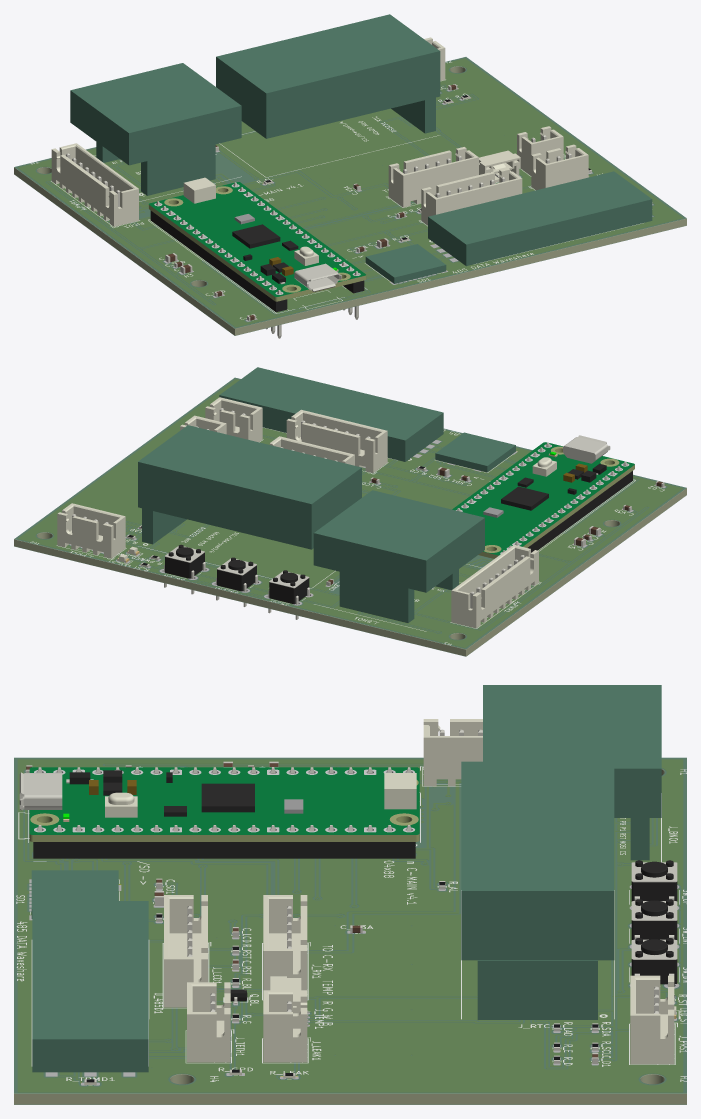
File: child_main.glb
The picture shows the model from 3 angles, top to bottom: view 1: azimuth 30°, elevation 25°; view 2: azimuth 150°, elevation 25°; view 3: azimuth 270°, elevation 25°; orthographic projection. The views are drawn at different scales.
Parts seen in each view (by area): view 1: =>[0:1:1:2] (×6), =>[0:1:1:25], =>[0:1:1:21], RaspberryPi_Pico_H_Module_KiCad, =>[0:1:1:27], J_PWR1, J_RX1, J_LCD1, RaspberryPi_Pico_H_Header_DIP-40_H2.54mm_KiCad, =>[0:1:1:24], J_TETH1, J_LEAK1 (+2 smaller); view 2: =>[0:1:1:2] (×6), =>[0:1:1:25], =>[0:1:1:21], RaspberryPi_Pico_H_Module_KiCad, =>[0:1:1:27], J_PWR1, J_LCD1, J_PRS1, =>[0:1:1:24], J_TETH1, RaspberryPi_Pico_H_Header_DIP-40_H2.54mm_KiCad, SW_UP (+6 smaller); view 3: =>[0:1:1:25], =>[0:1:1:2] (×6), =>[0:1:1:21], RaspberryPi_Pico_H_Module_KiCad, =>[0:1:1:27], RaspberryPi_Pico_H_Header_DIP-40_H2.54mm_KiCad, =>[0:1:1:24], J_LCD1, J_PRS1, J_RX1, J_TETH1, J_PWR1 (+7 smaller).
Boxes of the visible parts, x1,y1,x2,y2 form: =>[0:1:1:2] (×6): (70,14,652,283); =>[0:1:1:25]: (14,57,686,328); =>[0:1:1:21]: (19,59,681,326); RaspberryPi_Pico_H_Module_KiCad: (148,177,366,301); =>[0:1:1:27]: (14,57,686,335); J_PWR1: (51,143,138,226); J_RX1: (388,147,478,207); J_LCD1: (421,168,522,225); RaspberryPi_Pico_H_Header_DIP-40_H2.54mm_KiCad: (150,182,364,338); =>[0:1:1:24]: (30,60,643,320); J_TETH1: (531,144,588,190); J_LEAK1: (517,126,563,175); =>[0:1:1:2] (×6): (138,367,515,622); =>[0:1:1:25]: (14,377,686,649); =>[0:1:1:21]: (18,380,682,647); RaspberryPi_Pico_H_Module_KiCad: (452,435,634,558); =>[0:1:1:27]: (14,378,686,656); J_PWR1: (451,545,538,628); J_LCD1: (286,409,387,472); J_PRS1: (57,503,125,558); =>[0:1:1:24]: (30,427,664,645); J_TETH1: (205,397,262,442); RaspberryPi_Pico_H_Header_DIP-40_H2.54mm_KiCad: (457,442,632,552); SW_UP: (268,570,309,619); =>[0:1:1:25]: (14,757,686,1093); =>[0:1:1:2] (×6): (31,685,661,1072); =>[0:1:1:21]: (18,760,682,1091); RaspberryPi_Pico_H_Module_KiCad: (19,767,419,841); =>[0:1:1:27]: (14,758,686,1104); RaspberryPi_Pico_H_Header_DIP-40_H2.54mm_KiCad: (33,767,415,858); =>[0:1:1:24]: (16,766,686,1085); J_LCD1: (164,895,207,1007); J_PRS1: (630,975,674,1064); J_RX1: (263,895,307,990); J_TETH1: (187,982,230,1062); J_PWR1: (423,719,482,786).
Bounding box in the file's own units: 0.104 × 0.0248 × 0.088.
